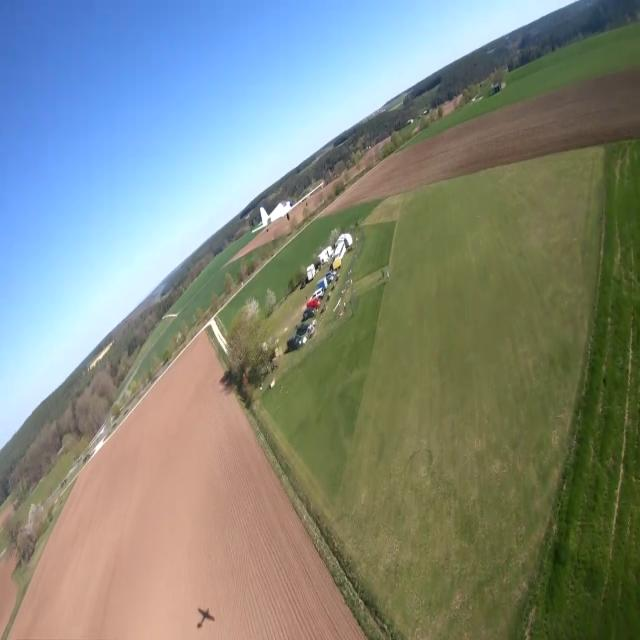iha: (284, 180, 288, 233)
